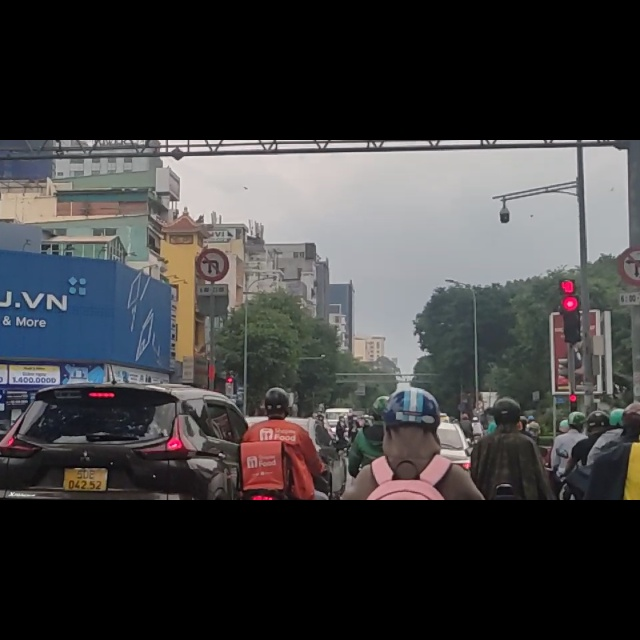bien_cam: (199, 191, 229, 248), (618, 188, 640, 254)
